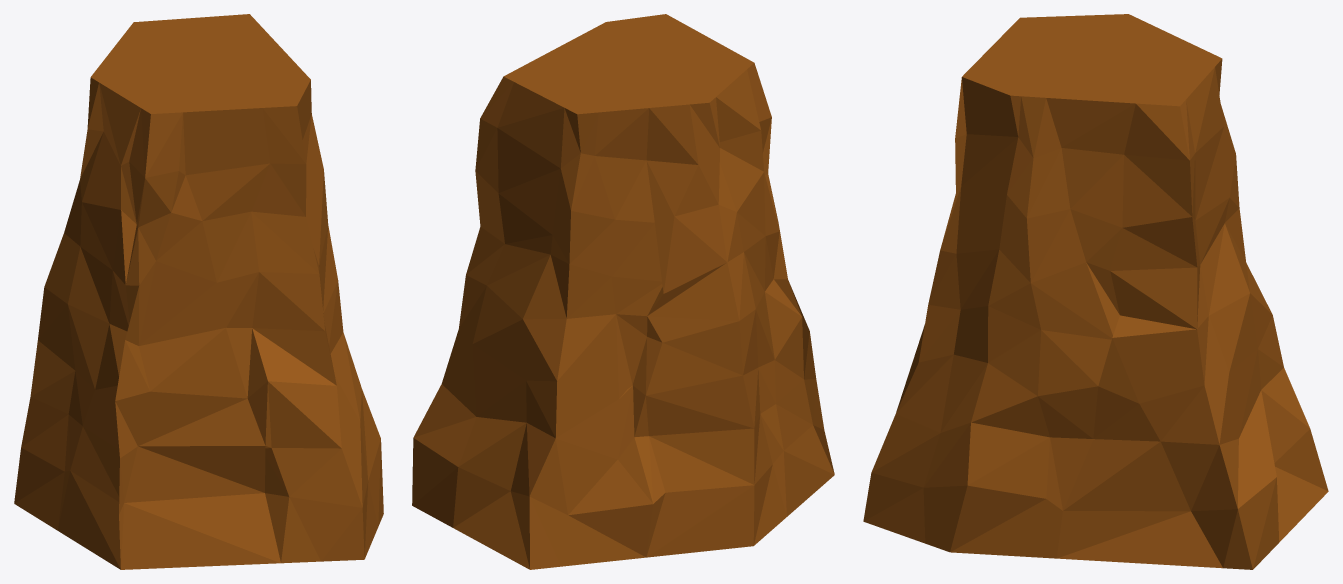
Rendered from loma_2.fbx.
3 renders of one model, left to right at view 1: azimuth 30°, elevation 25°; view 2: azimuth 150°, elevation 25°; view 3: azimuth 270°, elevation 25°, orthographic. The views are drawn at different scales.
Visible parts, largest first — view 1: Line002; view 2: Line002; view 3: Line002.
Part boxes in pixels (x1,y1,x2,y2): Line002: [14, 14, 383, 569]; Line002: [412, 14, 834, 569]; Line002: [863, 14, 1328, 569].
Bounding box in the file's own units: 156 × 205 × 199.
